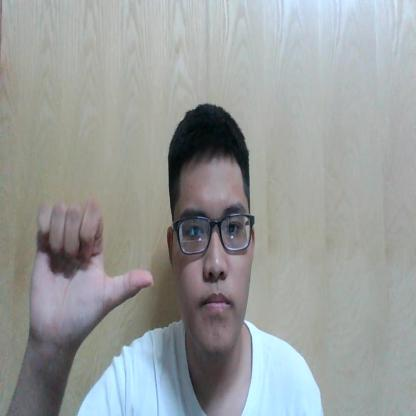left: (30, 196, 154, 351)
